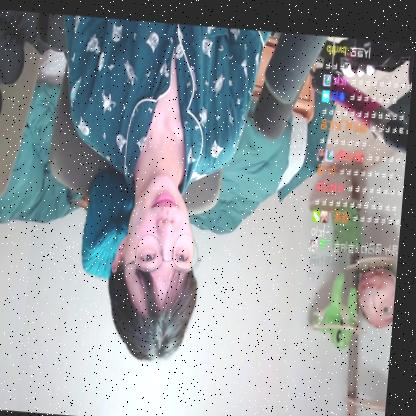streamer: (43, 13, 271, 364)
